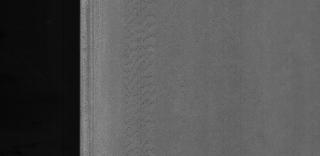silk spot: (116, 3, 158, 155)
